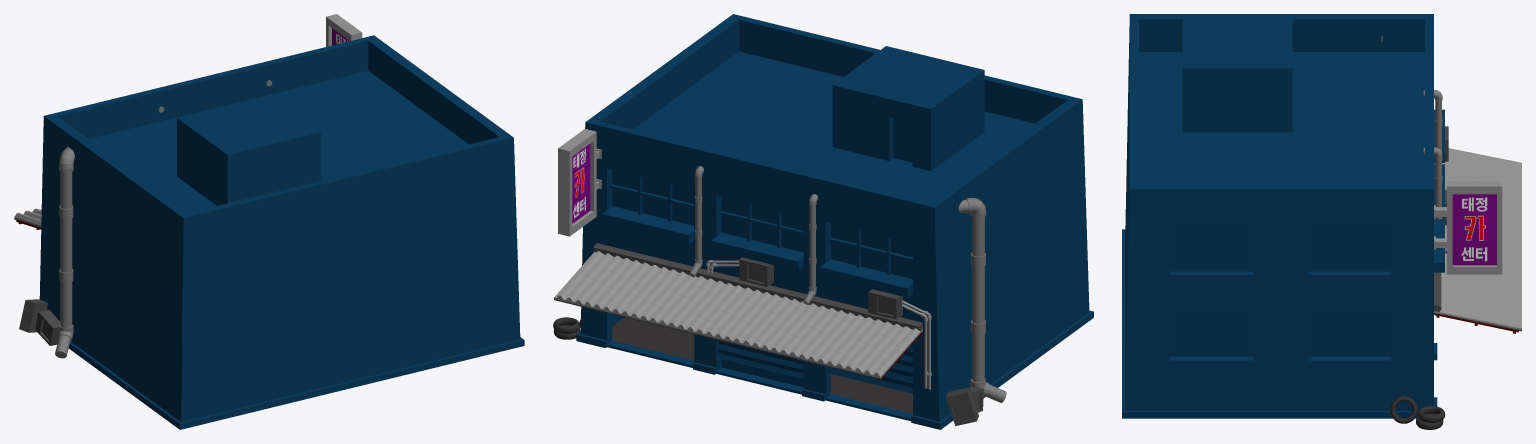
The model's file is tj_buliding1.fbx.
3 views of the same model, side by side, from view 1: azimuth 30°, elevation 25°; view 2: azimuth 150°, elevation 25°; view 3: azimuth 270°, elevation 25° (orthographic). The views are drawn at different scales.
Parts seen in each view (by area): view 1: Cube.003, Cube, Cylinder.012, Cube.006, Cube.001, Cube.005; view 2: Cube.003, Cube.008, Cube, Cube.007, Cube.020, Cylinder.012, Cube.001, Cube.018, Cube.005, Cube.004, Cube.002, Cylinder.007 (+1 smaller); view 3: Cube.003, Cube, Cube.008, Cube.019, Cube.001, Cube.007, Cylinder.001, Torus.002, Cylinder.007, Torus.001.
Part boxes in pixels (box(x1,y1,x2,y2)): Cube.003: box(39, 35, 524, 429); Cube: box(177, 95, 320, 205); Cylinder.012: box(55, 147, 74, 358); Cube.006: box(35, 310, 60, 345); Cube.001: box(326, 14, 362, 46); Cube.005: box(19, 299, 48, 332); Cube.003: box(576, 14, 1093, 429); Cube.008: box(554, 251, 922, 378); Cube: box(832, 46, 984, 171); Cube.007: box(554, 243, 922, 379); Cube.020: box(612, 317, 912, 413); Cylinder.012: box(958, 197, 1006, 402); Cube.001: box(558, 129, 601, 236); Cube.018: box(572, 144, 590, 223); Cube.005: box(946, 387, 978, 425); Cube.004: box(868, 289, 902, 319); Cube.002: box(739, 257, 773, 286); Cylinder.007: box(803, 194, 818, 304); Cube.003: box(1122, 14, 1444, 418); Cube: box(1182, 19, 1292, 132); Cube.008: box(1434, 148, 1521, 330); Cube.019: box(1452, 194, 1496, 265); Cube.001: box(1434, 181, 1502, 274); Cube.007: box(1434, 163, 1521, 331); Cylinder.001: box(1423, 147, 1446, 253); Torus.002: box(1390, 396, 1417, 423); Cylinder.007: box(1423, 90, 1446, 189); Torus.001: box(1417, 406, 1445, 422).
Bounding box in the file's own units: 1783 × 1030 × 1445.
